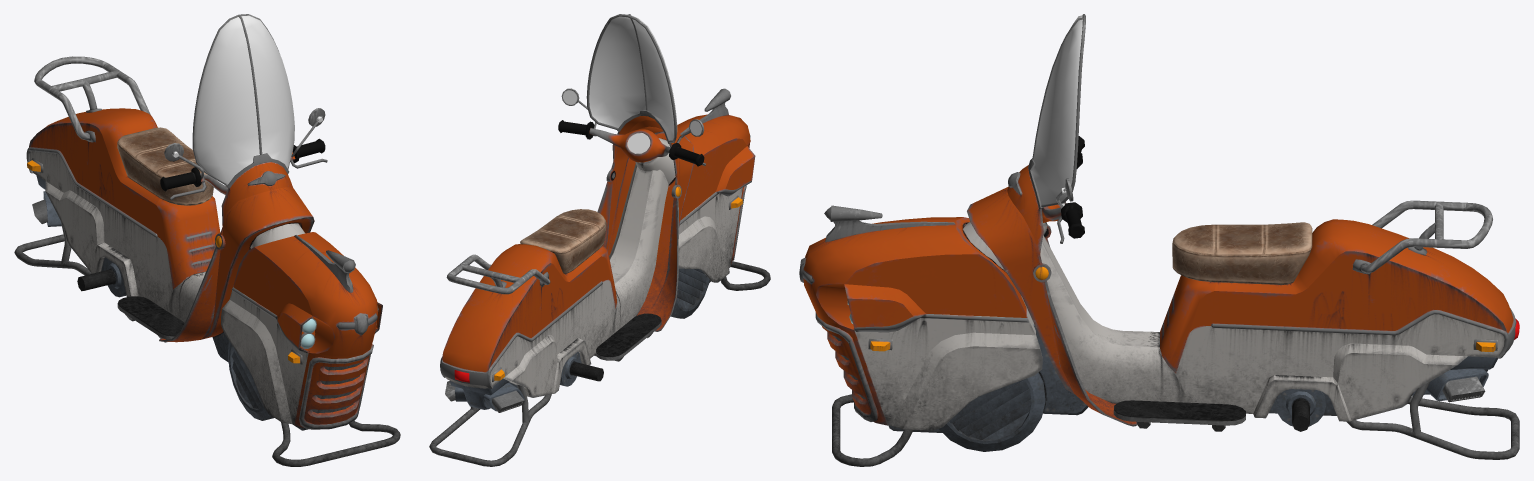
The model's file is ssr.gltf.
The picture shows the model from 3 angles, left to right: view 1: azimuth 30°, elevation 25°; view 2: azimuth 150°, elevation 25°; view 3: azimuth 270°, elevation 25°; orthographic projection. The views are drawn at different scales.
Visible parts, largest first — view 1: hull, glass; view 2: hull, glass; view 3: hull, glass.
Boxes of the visible parts, x1,y1,x2,y2 form: hull: [14, 14, 400, 466]; glass: [194, 15, 294, 183]; hull: [429, 14, 770, 466]; glass: [589, 15, 677, 153]; hull: [799, 14, 1519, 466]; glass: [1032, 15, 1082, 205].
Size of what is drawn, in the model's own units: 2.32 by 5.06 by 7.85.
Materials: 2 (1 with a texture image).
